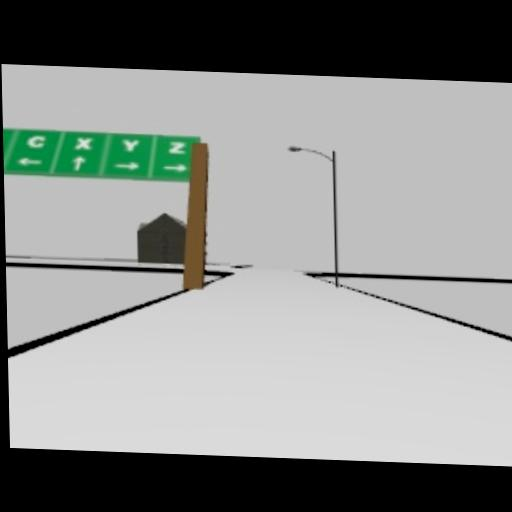C: (27, 133, 45, 147)
Left: (17, 156, 40, 165)
Right: (114, 160, 139, 169), (163, 162, 186, 171)
Straight: (70, 153, 85, 171)
X: (73, 135, 91, 149)
Y: (121, 137, 139, 153)
Z: (167, 141, 185, 154)
